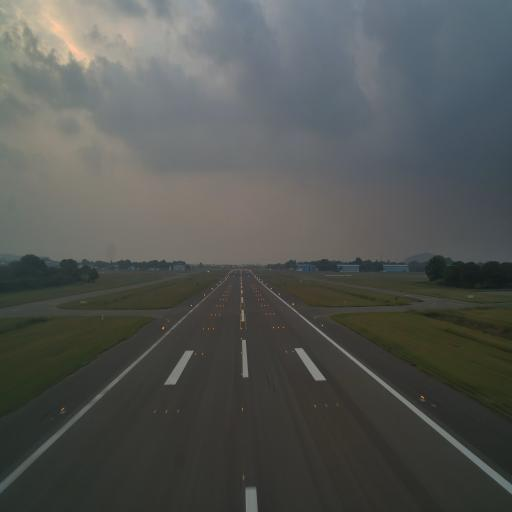on: (335, 398, 341, 411), (152, 405, 158, 417), (163, 406, 169, 417), (240, 472, 246, 482), (324, 400, 329, 411), (60, 404, 66, 413), (240, 405, 245, 415), (421, 392, 425, 403), (240, 370, 245, 378), (312, 402, 317, 409), (177, 408, 180, 417)
